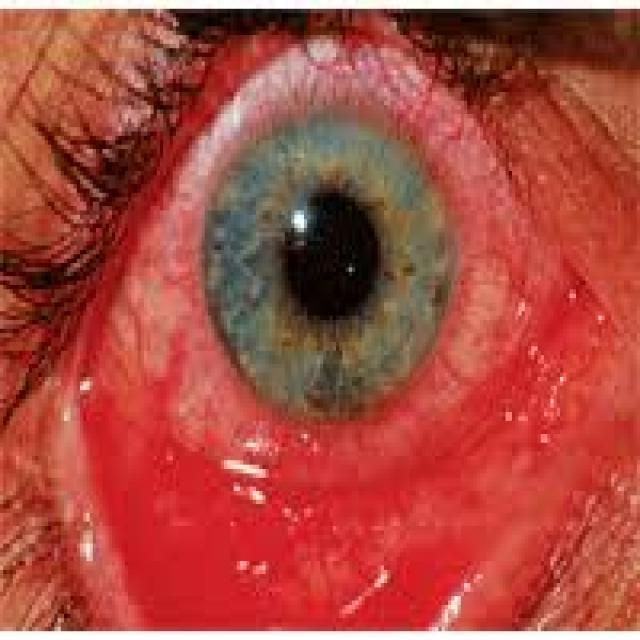Rosacea: (76, 32, 604, 640)
